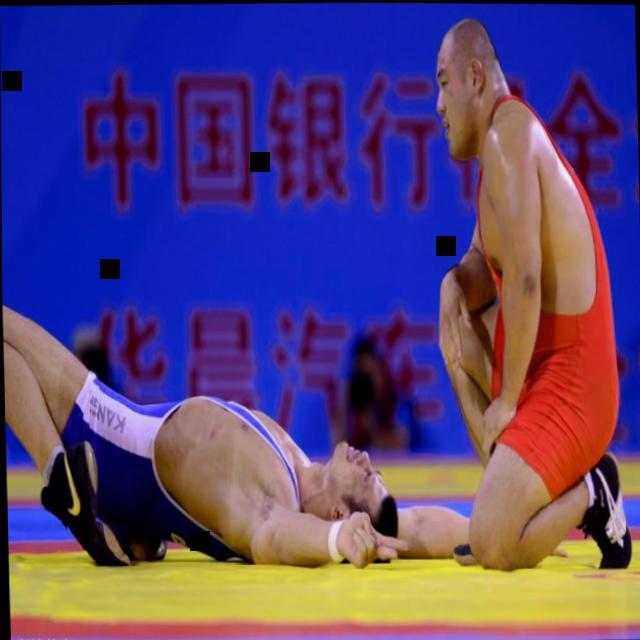Fall-Detected: (2, 273, 473, 587)
